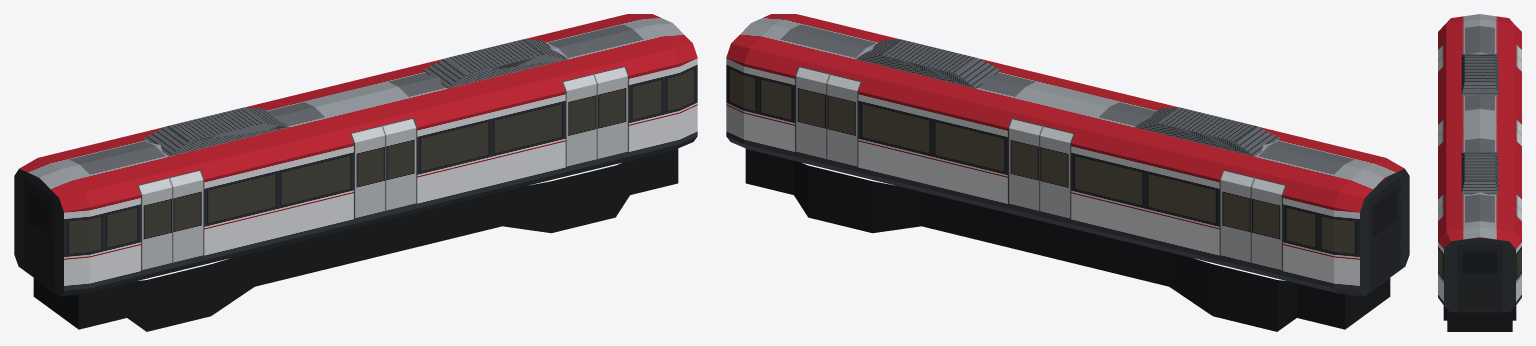
The model's file is val_52m__neutral.glb.
3 renders of one model, left to right at view 1: azimuth 30°, elevation 25°; view 2: azimuth 150°, elevation 25°; view 3: azimuth 270°, elevation 25°, orthographic. The views are drawn at different scales.
Parts seen in each view (by area): view 1: val_52m__neutral; view 2: val_52m__neutral; view 3: val_52m__neutral.
Part boxes in pixels (x1,y1,x2,y2): val_52m__neutral: (14,14,697,331); val_52m__neutral: (726,14,1409,331); val_52m__neutral: (1438,14,1521,331).
Size of the model in its own units: 13 by 3.25 by 2.06.
Materials: 1 (1 with a texture image).
